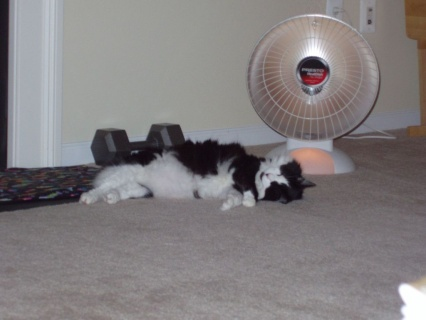Cat: (78, 136, 317, 210)
